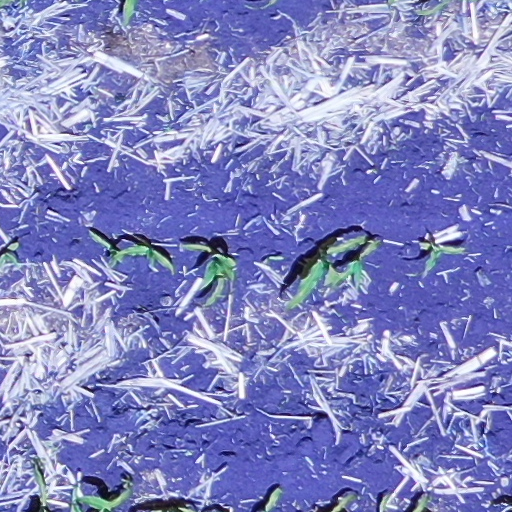planta: (285, 237, 367, 307), (182, 244, 235, 305), (330, 239, 378, 287), (111, 243, 172, 269), (422, 238, 462, 268)
